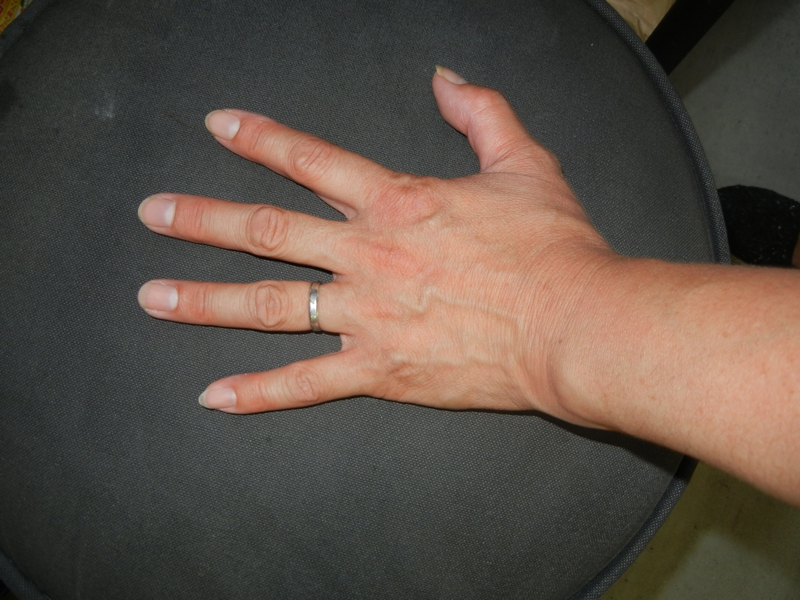hand: (138, 66, 598, 418)
